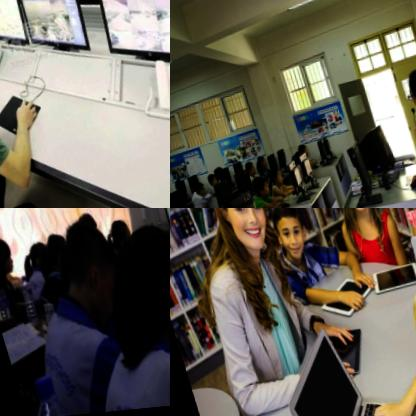head: (107, 218, 170, 362), (47, 217, 119, 331), (200, 208, 273, 260), (390, 270, 416, 416), (262, 208, 307, 265), (96, 215, 131, 260), (34, 228, 65, 274), (19, 238, 48, 272), (396, 71, 416, 118), (245, 177, 268, 205), (0, 231, 9, 274), (264, 169, 281, 191), (285, 152, 302, 173), (187, 181, 201, 200), (239, 163, 252, 182), (249, 157, 264, 173), (200, 173, 214, 189), (292, 146, 304, 161)
